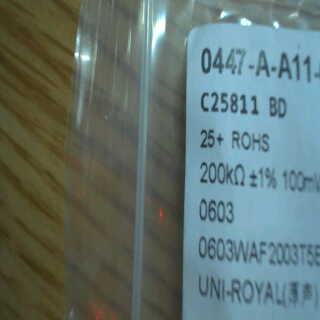200kR: (196, 160, 249, 190)
